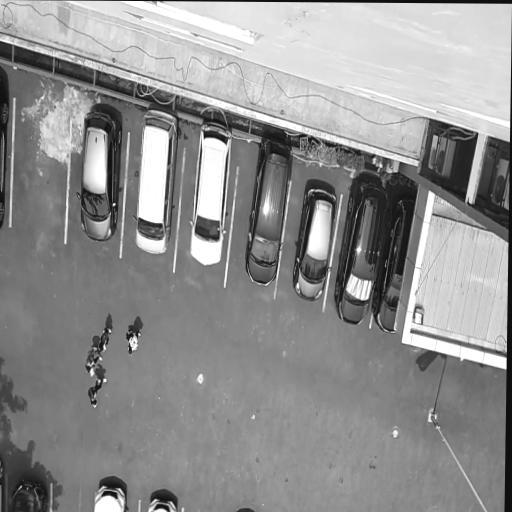Car: (331, 171, 391, 331), (239, 133, 299, 292), (127, 101, 183, 260), (184, 111, 236, 275), (72, 100, 128, 249), (371, 175, 418, 342), (286, 183, 341, 311), (6, 468, 52, 512), (88, 481, 127, 512), (147, 485, 182, 512)
Space Available: (10, 97, 72, 245), (51, 485, 94, 512)
